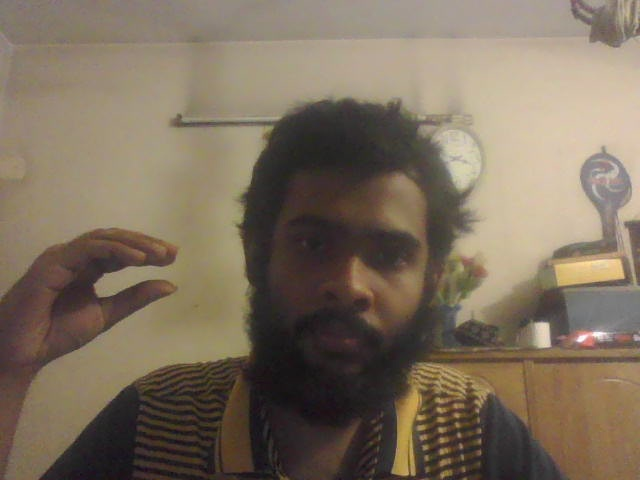No: (1, 228, 178, 359)
